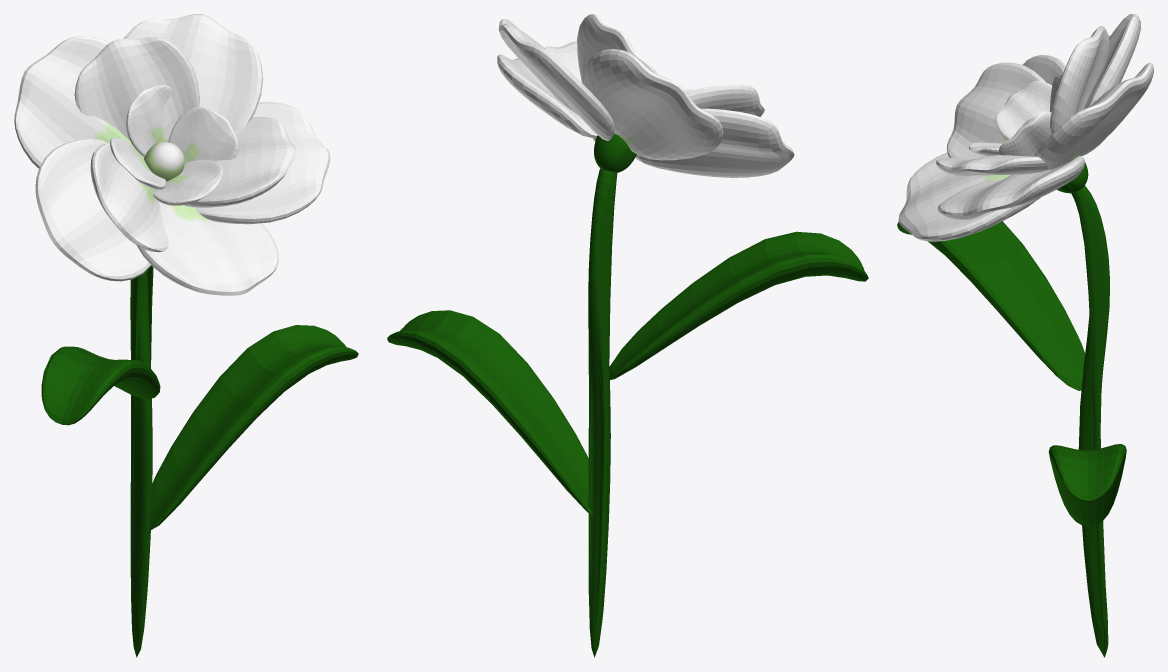
The model's file is Anxiety_Stock.glb.
3 renders of one model, left to right at view 1: azimuth 30°, elevation 25°; view 2: azimuth 150°, elevation 25°; view 3: azimuth 270°, elevation 25°, orthographic.
Visible parts, largest first — view 1: Cube; view 2: Cube; view 3: Cube.
Boxes of the visible parts, box(x1,y1,x2,y2) form: Cube: box(14, 14, 358, 657); Cube: box(387, 14, 868, 657); Cube: box(897, 14, 1153, 657).
Bounding box in the file's own units: 8.04 × 12.37 × 4.63.
Materials: 3 (2 with a texture image).
